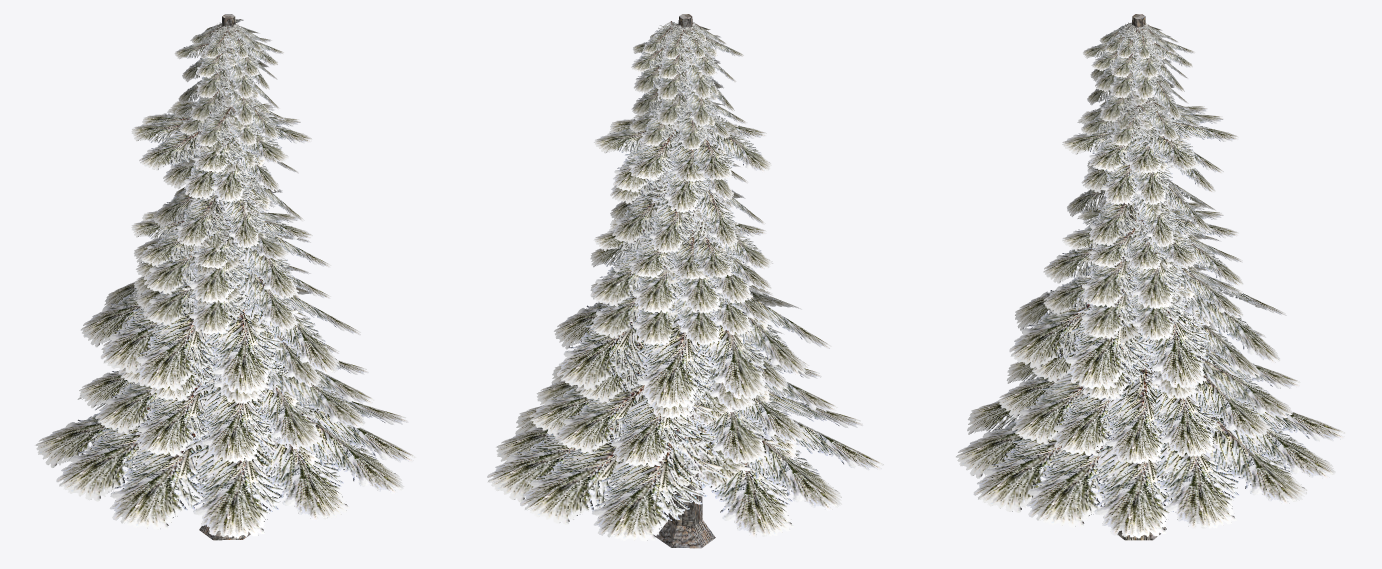
File: tırrek.fbx
3 views of the same model, side by side, from view 1: azimuth 30°, elevation 25°; view 2: azimuth 150°, elevation 25°; view 3: azimuth 270°, elevation 25° (orthographic).
Parts seen in each view (by area): view 1: pngegg.116, pngegg.122, pngegg.014, pngegg.130, pngegg.131, pngegg.117, pngegg.115, pngegg.020, pngegg.119, pngegg.015, pngegg.132, pngegg.114 (+44 smaller); view 2: pngegg.113, pngegg.123, pngegg.011, pngegg.114, pngegg.127, pngegg.125, pngegg, pngegg.128, pngegg.115, pngegg.124, pngegg.012, Cylinder (+51 smaller); view 3: pngegg.121, pngegg.120, pngegg.118, pngegg.019, pngegg.124, pngegg.119, pngegg.133, pngegg.134, pngegg.132, pngegg.018, pngegg.016, pngegg.017 (+45 smaller).
Part boxes in pixels (left/top/right/bottom): pngegg.116: left=184, top=401, right=318, bottom=538; pngegg.122: left=109, top=401, right=264, bottom=529; pngegg.014: left=193, top=352, right=298, bottom=462; pngegg.130: left=136, top=268, right=265, bottom=390; pngegg.131: left=181, top=287, right=298, bottom=393; pngegg.117: left=255, top=399, right=349, bottom=520; pngegg.115: left=56, top=420, right=208, bottom=501; pngegg.020: left=137, top=355, right=259, bottom=456; pngegg.119: left=249, top=413, right=404, bottom=493; pngegg.015: left=209, top=372, right=323, bottom=449; pngegg.132: left=225, top=285, right=339, bottom=374; pngegg.114: left=35, top=403, right=208, bottom=467; pngegg.113: left=592, top=415, right=751, bottom=541; pngegg.123: left=520, top=421, right=717, bottom=524; pngegg.011: left=611, top=358, right=734, bottom=466; pngegg.114: left=676, top=407, right=798, bottom=537; pngegg.127: left=632, top=283, right=750, bottom=408; pngegg.125: left=557, top=278, right=712, bottom=390; pngegg: left=555, top=356, right=708, bottom=453; pngegg.128: left=669, top=290, right=769, bottom=399; pngegg.115: left=679, top=430, right=841, bottom=510; pngegg.124: left=487, top=414, right=693, bottom=502; pngegg.012: left=689, top=374, right=771, bottom=463; Cylinder: left=656, top=14, right=715, bottom=548; pngegg.121: left=1089, top=413, right=1215, bottom=538; pngegg.120: left=1156, top=400, right=1239, bottom=528; pngegg.118: left=1026, top=410, right=1189, bottom=527; pngegg.019: left=1101, top=355, right=1198, bottom=464; pngegg.124: left=1149, top=406, right=1307, bottom=504; pngegg.119: left=973, top=412, right=1156, bottom=512; pngegg.133: left=1065, top=275, right=1188, bottom=389; pngegg.134: left=1122, top=297, right=1215, bottom=388; pngegg.132: left=1009, top=270, right=1166, bottom=369; pngegg.018: left=1147, top=342, right=1218, bottom=456; pngegg.016: left=1053, top=369, right=1165, bottom=455; pngegg.017: left=1012, top=356, right=1156, bottom=444.
Bounding box in the file's own units: 1161 × 1551 × 1188.
2 materials, 2 textured.
